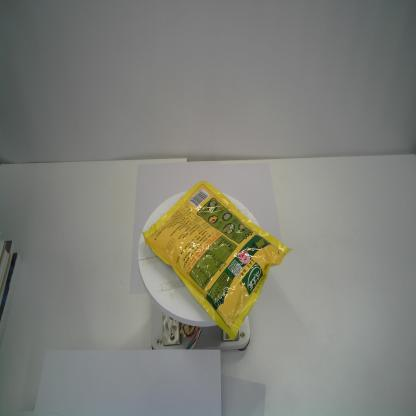Seasoner: (139, 176, 294, 342)
